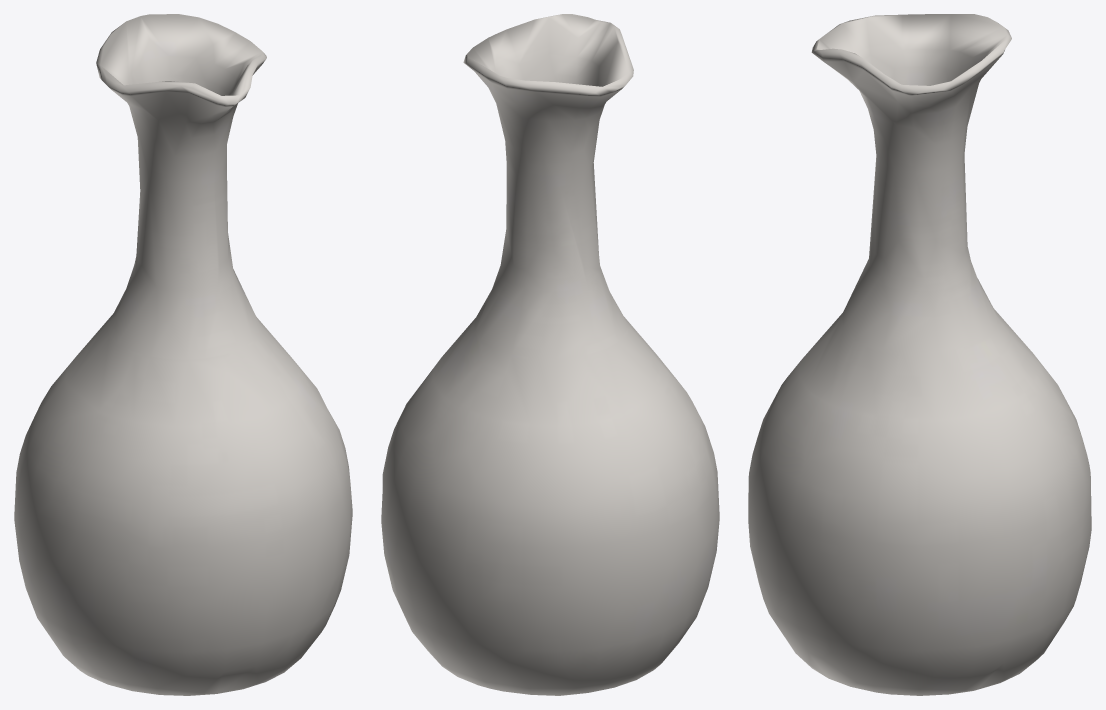
Rendered from ceramic_vase_01.glb.
3 renders of one model, left to right at view 1: azimuth 30°, elevation 25°; view 2: azimuth 150°, elevation 25°; view 3: azimuth 270°, elevation 25°, orthographic.
Visible parts, largest first — view 1: ceramic_vase_01; view 2: ceramic_vase_01; view 3: ceramic_vase_01.
Part boxes in pixels (x1,y1,x2,y2): ceramic_vase_01: [14, 14, 352, 695]; ceramic_vase_01: [381, 14, 719, 695]; ceramic_vase_01: [748, 14, 1091, 695].
Bounding box in the file's own units: 0.2029 × 0.4003 × 0.2024.
Materials: 1 (1 with a texture image).
